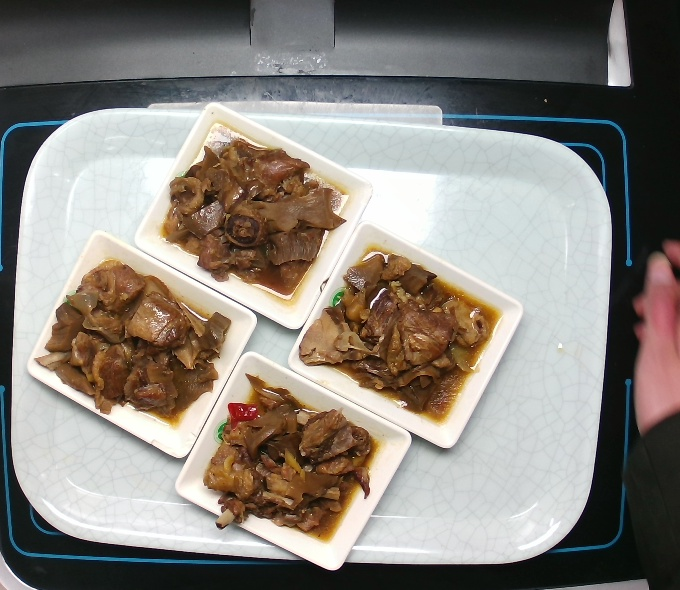wcq-YaRouSunGan: (154, 124, 354, 303), (301, 243, 501, 422), (35, 251, 235, 430), (184, 370, 384, 549)
